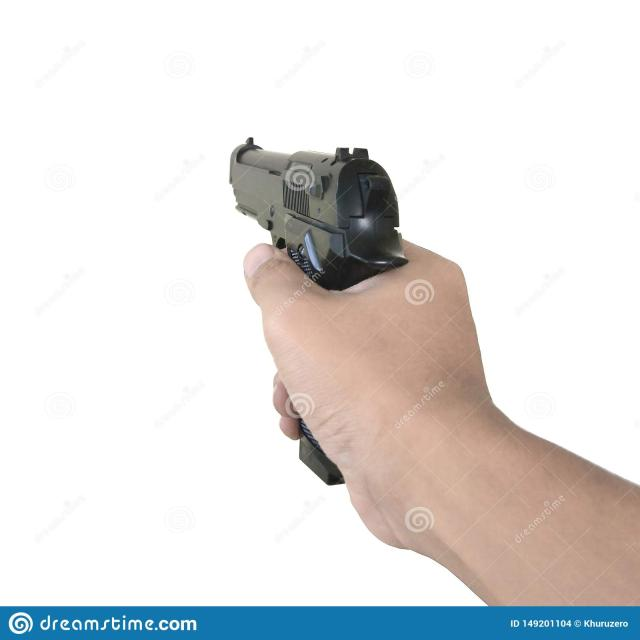HandGun: (226, 119, 414, 496)
